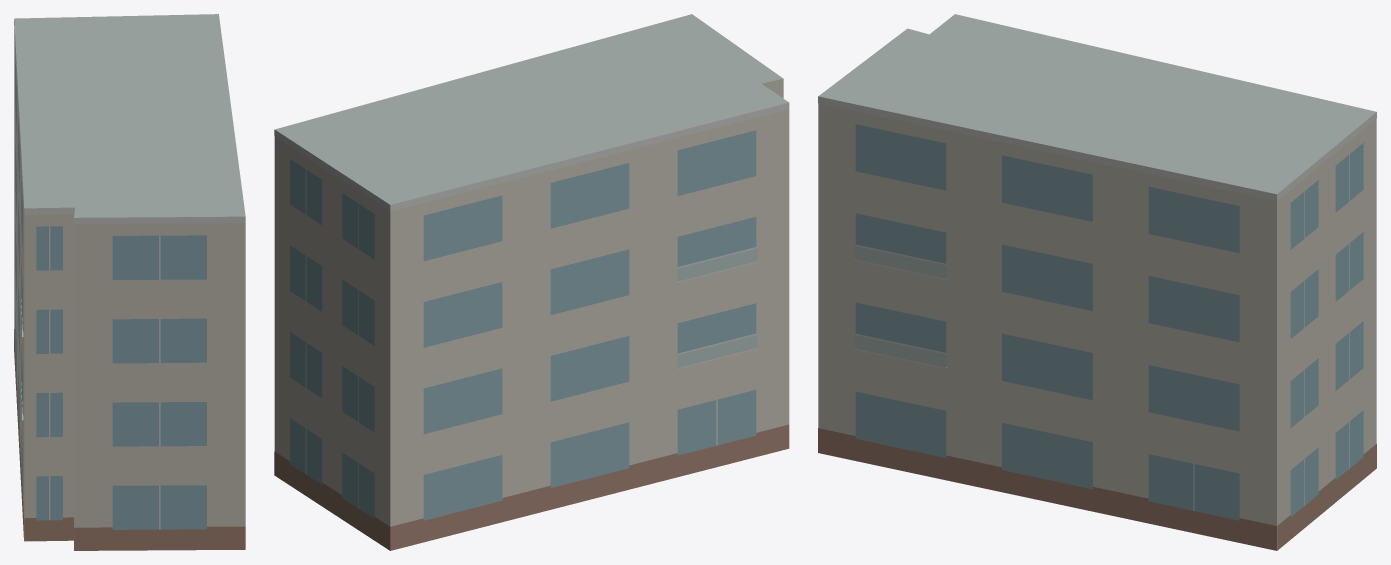
File: survey-upis-32999452.glb
3 views of the same model, side by side, from view 1: azimuth 30°, elevation 25°; view 2: azimuth 150°, elevation 25°; view 3: azimuth 270°, elevation 25° (orthographic). The views are drawn at different scales.
Parts seen in each view (by area): view 1: survey-upis-32999452.tmp; view 2: survey-upis-32999452.tmp; view 3: survey-upis-32999452.tmp.
Boxes of the visible parts, x1,y1,x2,y2 form: survey-upis-32999452.tmp: (14,14,245,550); survey-upis-32999452.tmp: (274,14,789,550); survey-upis-32999452.tmp: (818,14,1376,550).
Size of the model in its own units: 13.89 by 12.8 by 18.19.
